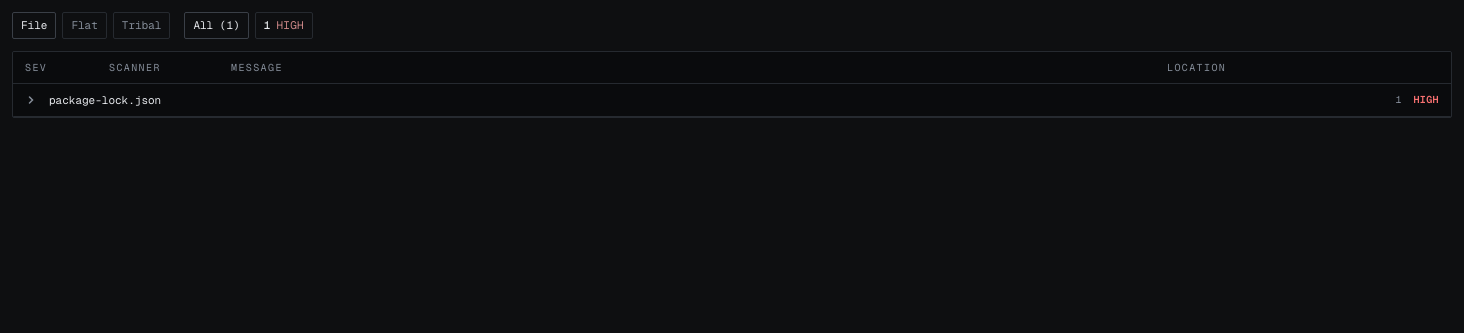
Scenario: FindingsTable source context › explains that dependency findings can be manifest scoped
Click the button "package-lock.json 1 HIGH" at (105, 100), box [13, 84, 1451, 117]
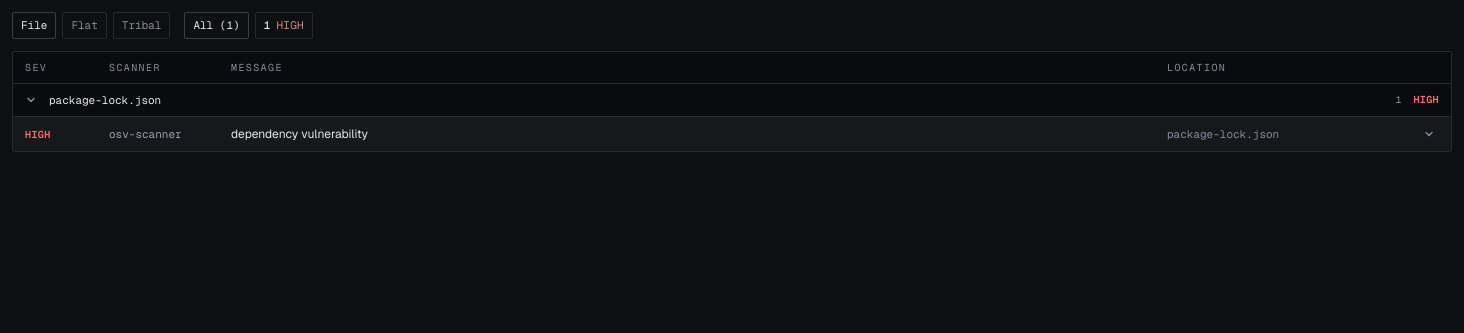
Click the button "HIGH osv-scanner dependency vulnerability package-lock.json" at (145, 134), box [13, 117, 1451, 151]
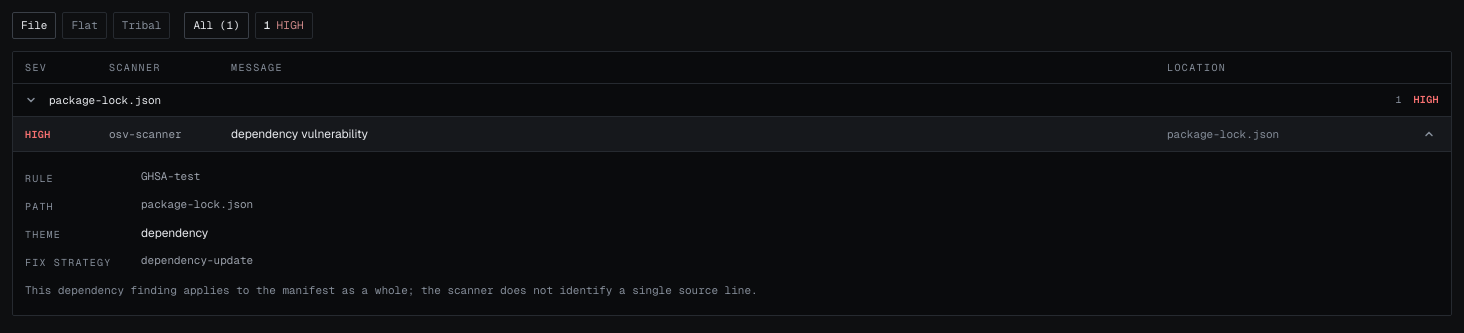
expect the text "This dependency finding applies to the manifest as a whole; the scanner does not identify a single source line." is shown: met, box [25, 283, 758, 297]
